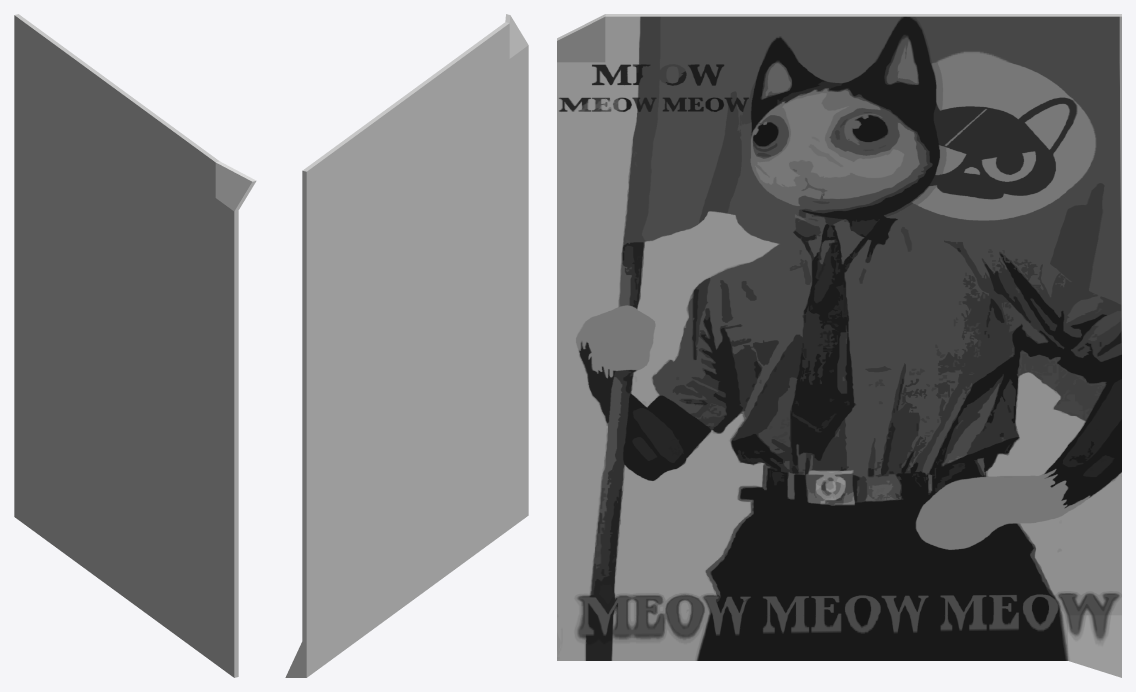
File: Poster_1.fbx
The picture shows the model from 3 angles, left to right: view 1: azimuth 30°, elevation 25°; view 2: azimuth 150°, elevation 25°; view 3: azimuth 270°, elevation 25°; orthographic projection. The views are drawn at different scales.
Parts seen in each view (by area): view 1: Cube; view 2: Cube; view 3: Cube.
Boxes of the visible parts, box(x1,y1,x2,y2) form: Cube: box(14, 14, 256, 677); Cube: box(285, 14, 528, 677); Cube: box(557, 14, 1121, 677).
Size of the model in its own units: 4.13 by 89.33 by 70.28.
